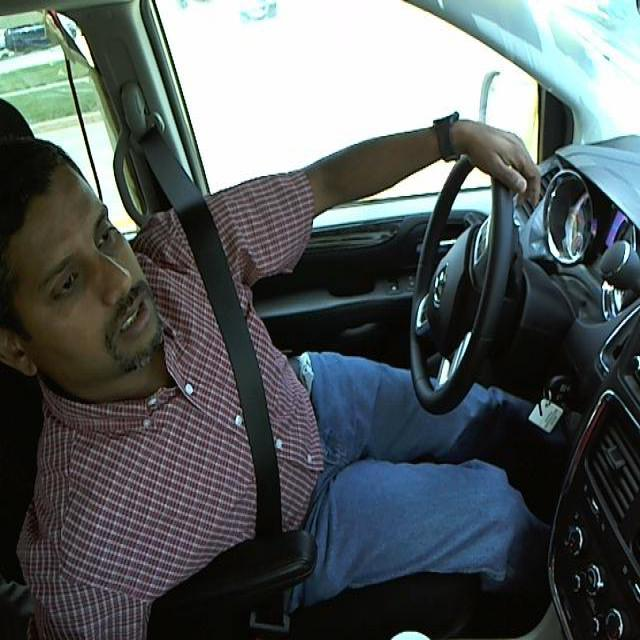seatbelt: (128, 127, 311, 557)
